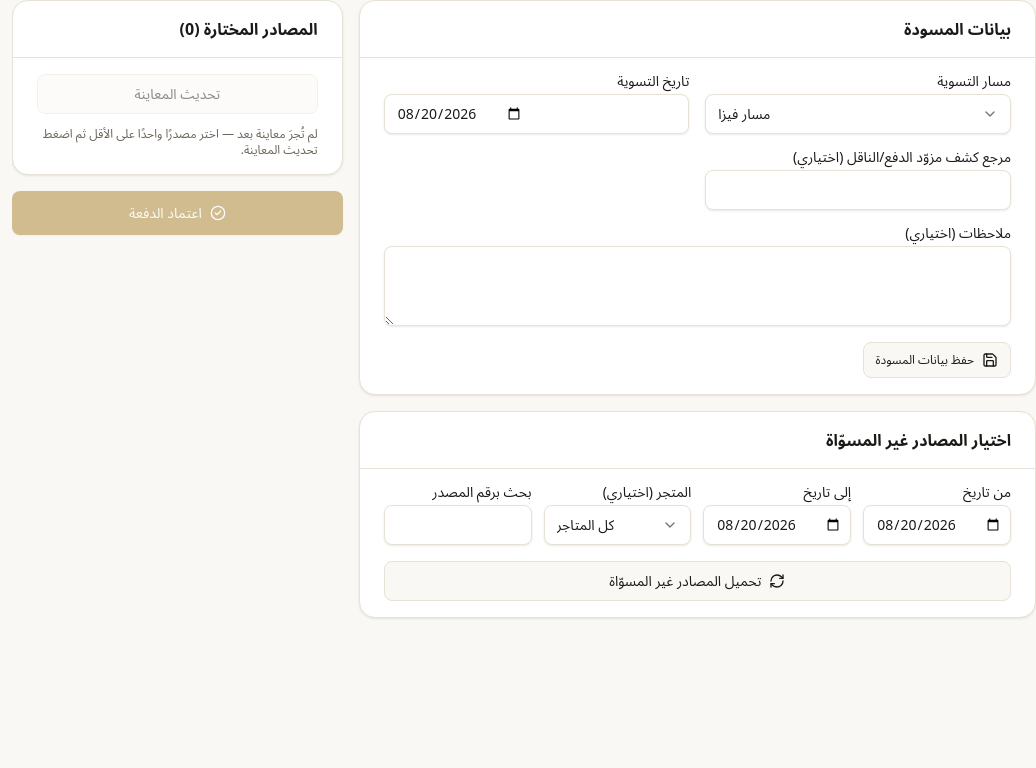
Test: SettlementDraftWorkspace — Preview state machine (Patch 7.1 §16/§33) › stale after a settlement-date change — the top-level settlement date is part of the preview key
This screenshot has width=1036, height=768.
Click the button "تحميل المصادر غير المسوّاة" at (697, 581), box [384,561,1011,601]
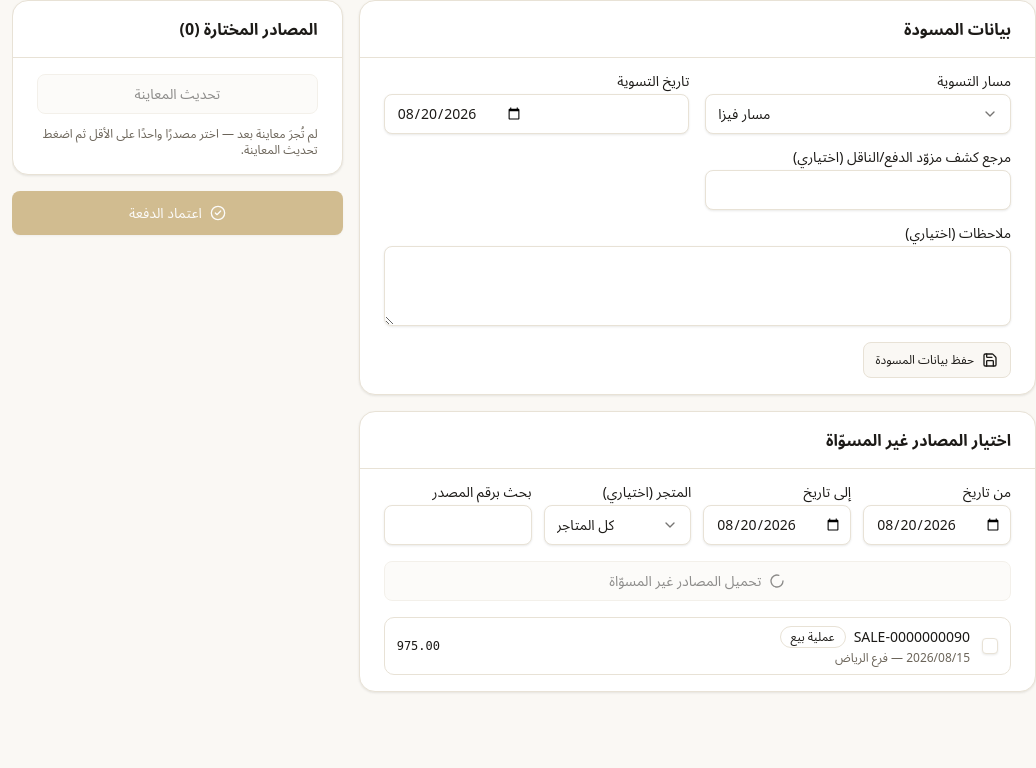
Check: the text "SALE-0000000090" is shown, box [854,627,970,646]
Click the checkbox at (990, 646), box [982,638,998,654]
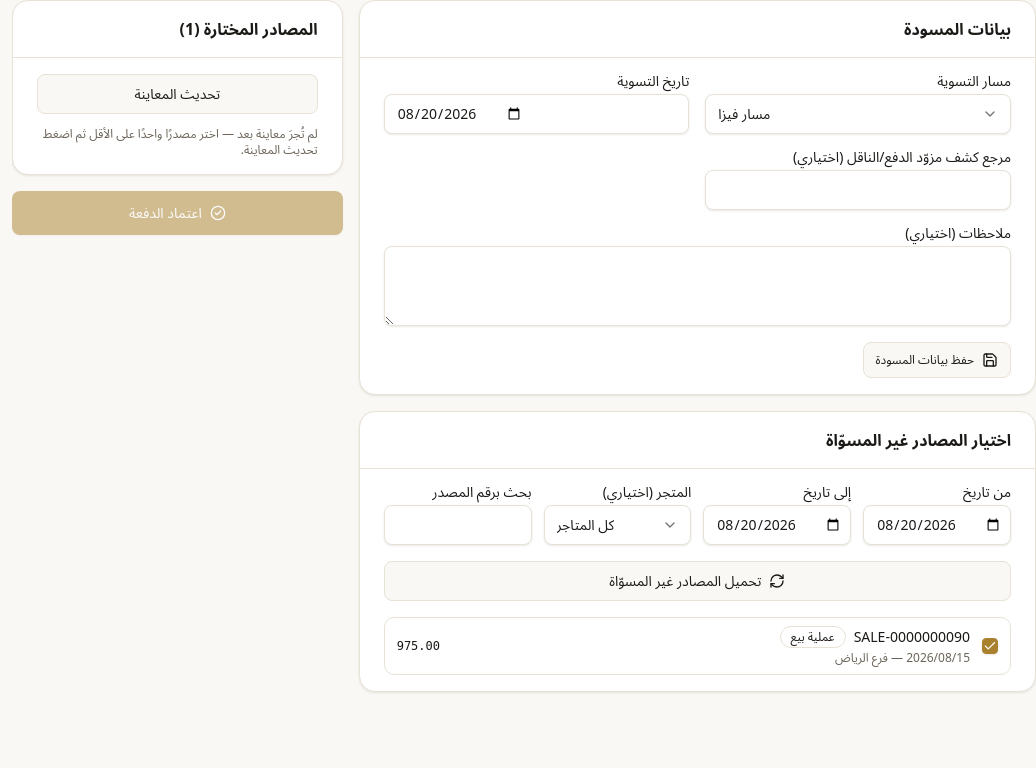
Click the button "تحديث المعاينة" at (177, 94), box [37,74,318,114]
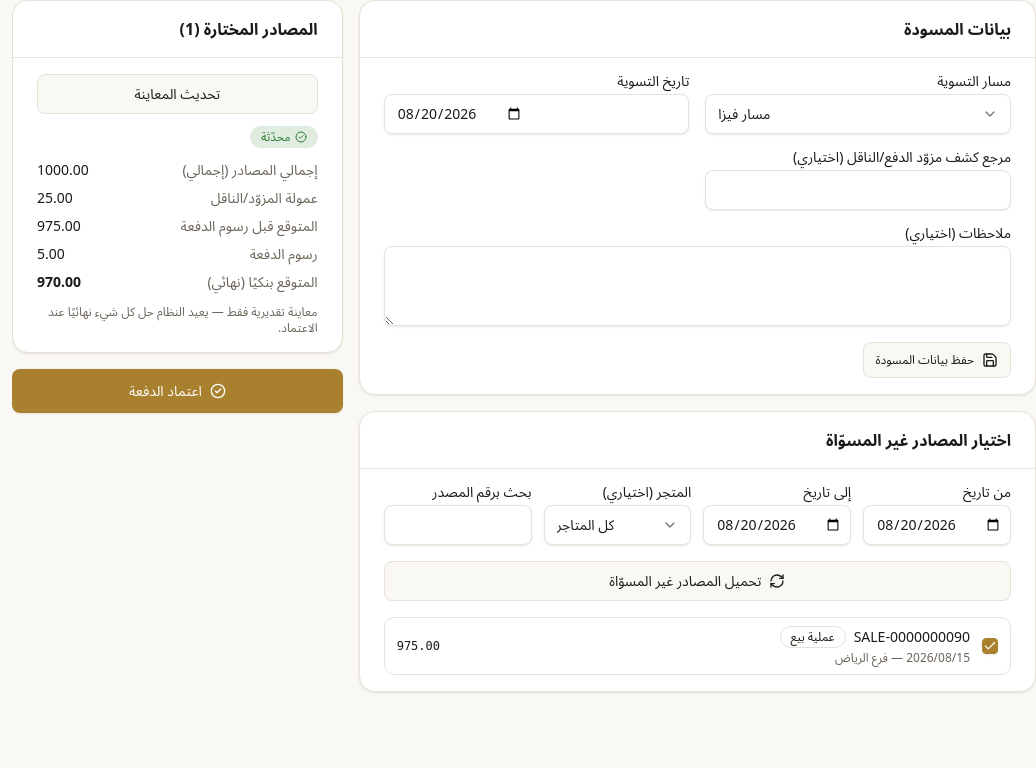
Check: the text "محدّثة" is shown, box [250,126,318,148]
Type "2026-08-21" into the date field below "تاريخ التسوية" at (537, 114), box [384,94,689,134]
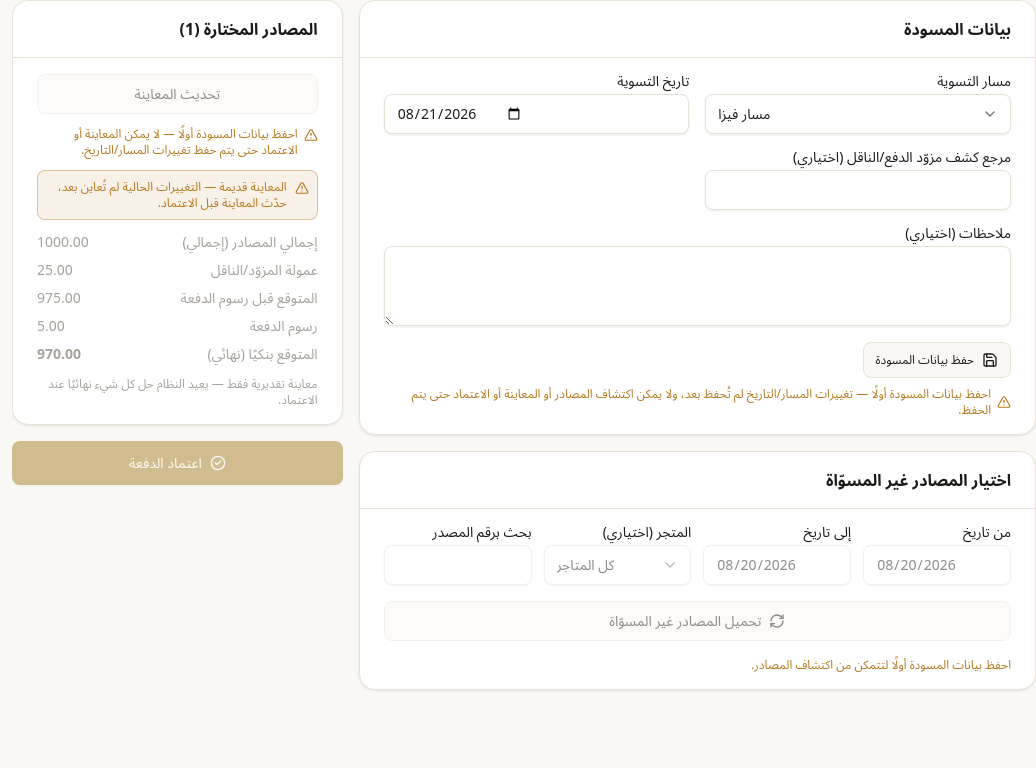
Check: the text "محدّثة" is gone
Check: the text "المعاينة قديمة" is shown, box [58,178,287,211]
Check: the button "اعتماد الدفعة" is disabled, box [12,441,343,485]
